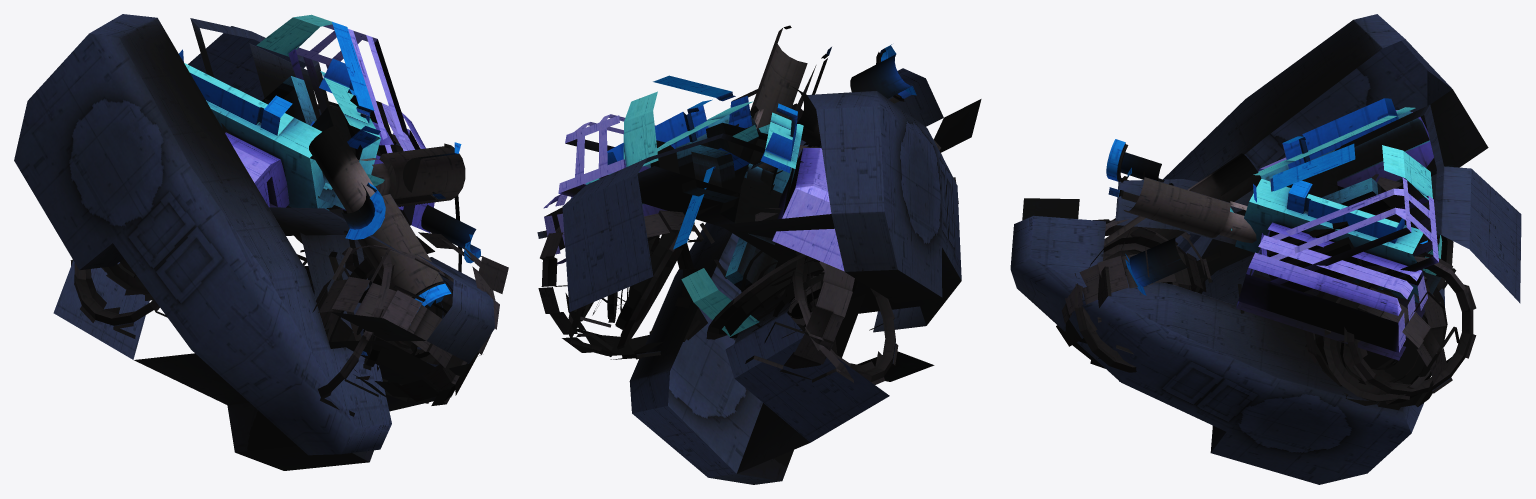
Rendered from PlayerA_Die4.obj.
The picture shows the model from 3 angles, left to right: view 1: azimuth 30°, elevation 25°; view 2: azimuth 150°, elevation 25°; view 3: azimuth 270°, elevation 25°; orthographic projection. The views are drawn at different scales.
Visible parts, largest first — view 1: Object001; view 2: Object001; view 3: Object001.
Part boxes in pixels (x1,y1,x2,y2): Object001: (14,14,508,470); Object001: (537,25,981,484); Object001: (1010,14,1521,484).
Bounding box in the file's own units: 112 × 120 × 138.
1 material, 1 textured.
